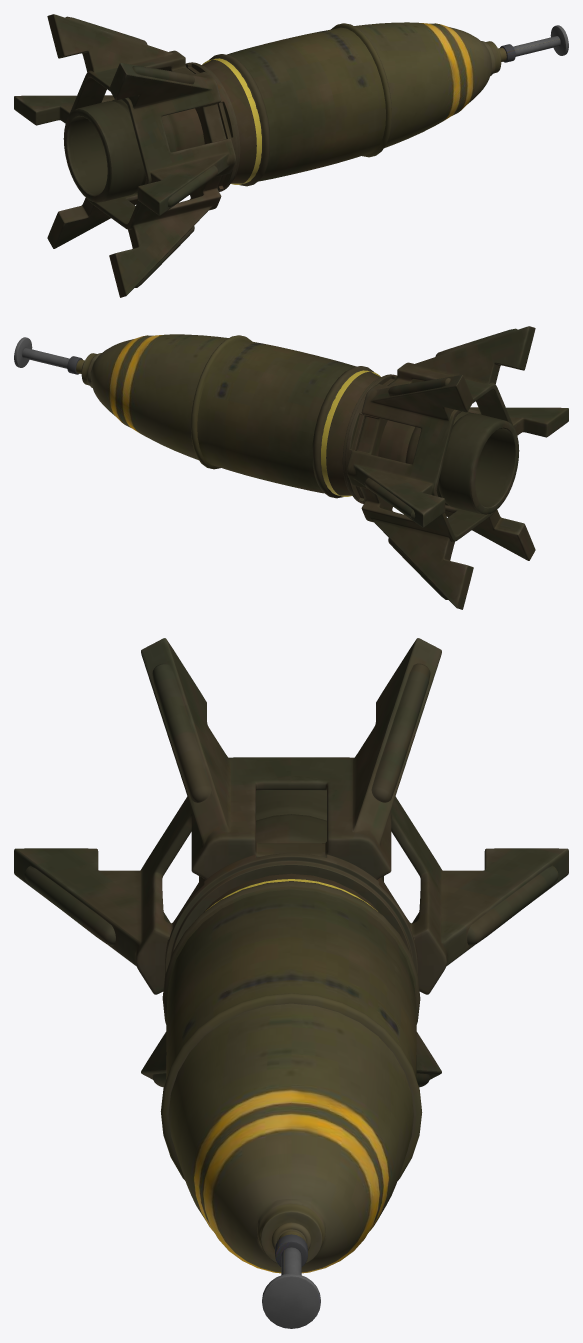
The model's file is hebomb_2.glb.
The picture shows the model from 3 angles, top to bottom: view 1: azimuth 30°, elevation 25°; view 2: azimuth 150°, elevation 25°; view 3: azimuth 270°, elevation 25°; orthographic projection. The views are drawn at different scales.
Visible parts, largest first — view 1: hebomb_2; view 2: hebomb_2; view 3: hebomb_2.
Boxes of the visible parts, x1,y1,x2,y2 form: hebomb_2: (14, 14, 568, 297); hebomb_2: (14, 326, 568, 609); hebomb_2: (14, 638, 568, 1328).
Size of the model in its own units: 1.13 by 0.5357 by 0.6024.
4 materials, 4 textured.
